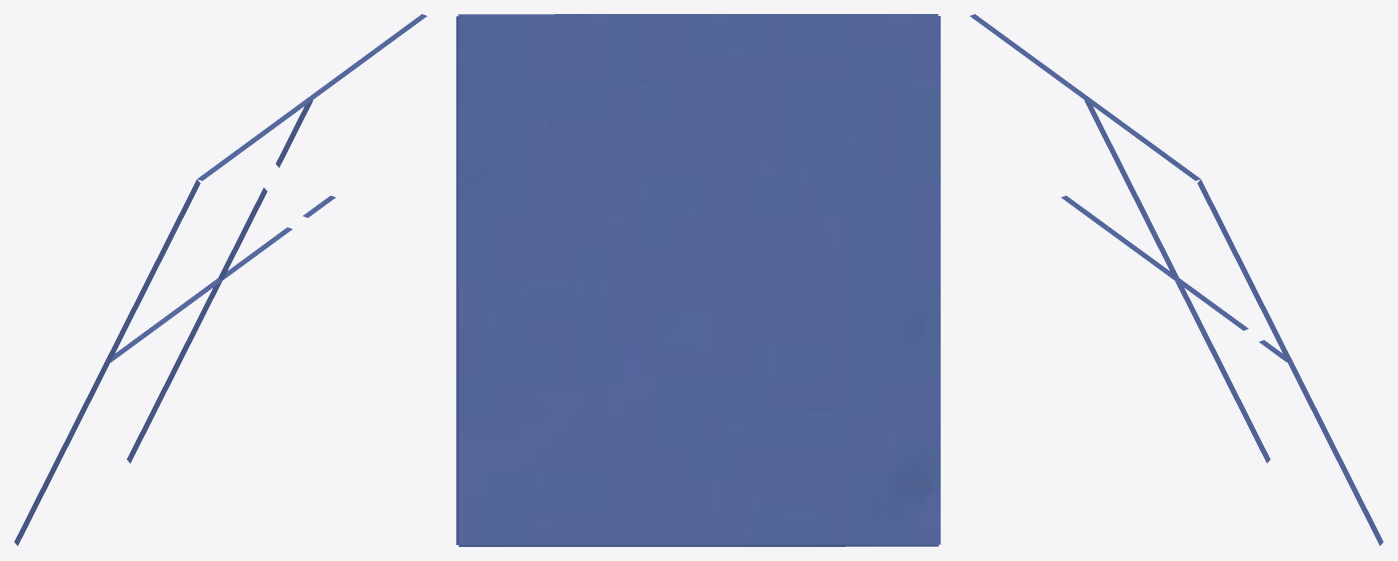
The picture shows the model from 3 angles, left to right: view 1: azimuth 30°, elevation 25°; view 2: azimuth 150°, elevation 25°; view 3: azimuth 270°, elevation 25°; orthographic projection. The views are drawn at different scales.
Bounding box in the file's own units: 39498 × 35823 × 32688.
Materials: 1 (1 with a texture image).
